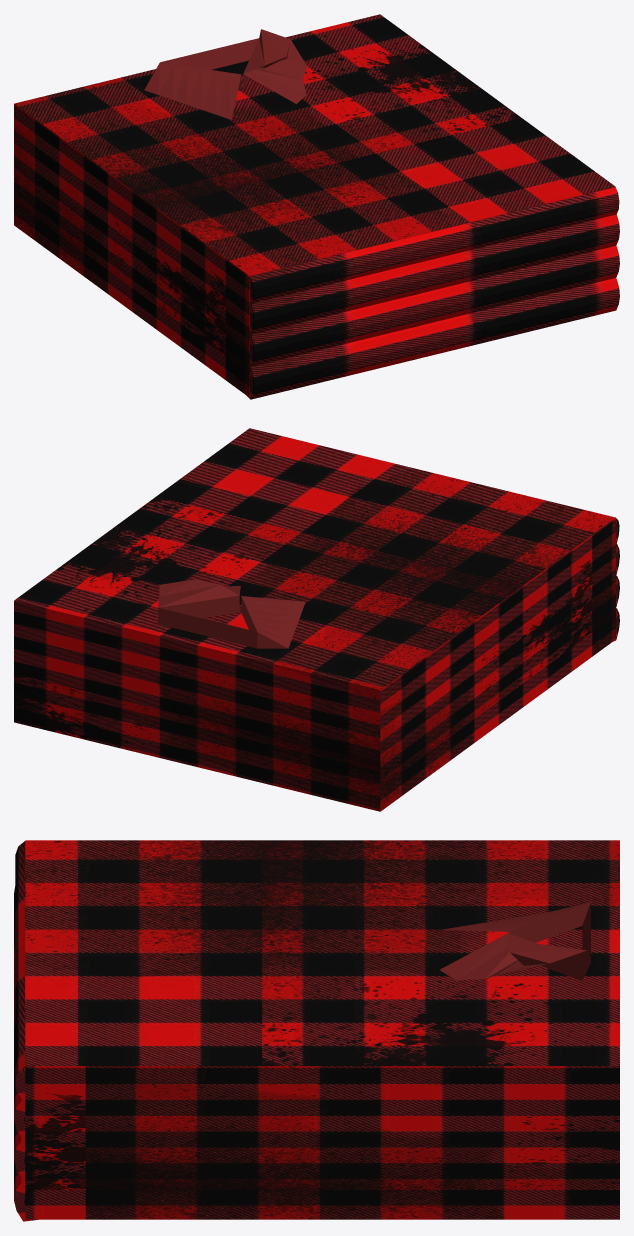
File: DirtyShirts.fbx
The picture shows the model from 3 angles, top to bottom: view 1: azimuth 30°, elevation 25°; view 2: azimuth 150°, elevation 25°; view 3: azimuth 270°, elevation 25°; orthographic projection. The views are drawn at different scales.
Parts seen in each view (by area): view 1: pPipe10; view 2: pPipe10; view 3: pPipe10.
Part boxes in pixels (x1,y1,x2,y2): pPipe10: [14, 14, 619, 399]; pPipe10: [14, 428, 619, 811]; pPipe10: [14, 840, 619, 1221].
Bounding box in the file's own units: 0.9136 × 0.3583 × 1.04.
